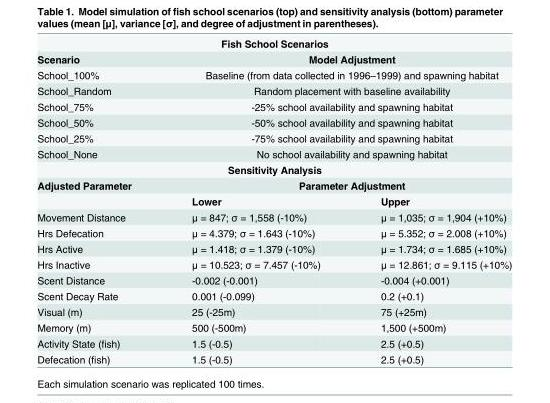table: (36, 37, 511, 364)
table column: (161, 37, 349, 364), (349, 37, 511, 364), (36, 37, 161, 364)
table projected row header: (36, 161, 511, 177), (36, 37, 511, 50)
table row: (36, 50, 511, 66), (36, 66, 511, 82), (36, 82, 511, 98), (36, 98, 511, 114), (36, 114, 511, 130), (36, 145, 511, 161), (36, 161, 511, 177), (36, 192, 511, 208), (36, 208, 511, 224), (36, 224, 511, 240), (36, 240, 511, 256), (36, 256, 511, 272), (36, 287, 511, 303), (36, 303, 511, 319), (36, 319, 511, 335), (36, 130, 511, 145), (36, 177, 511, 192), (36, 272, 511, 287), (36, 335, 511, 350), (36, 350, 511, 364), (36, 37, 511, 50)
table spanning cell: (161, 50, 511, 66), (161, 66, 511, 82), (161, 82, 511, 98), (161, 98, 511, 114), (161, 114, 511, 130), (161, 145, 511, 161), (161, 130, 511, 145), (161, 177, 511, 192), (36, 177, 161, 208)
